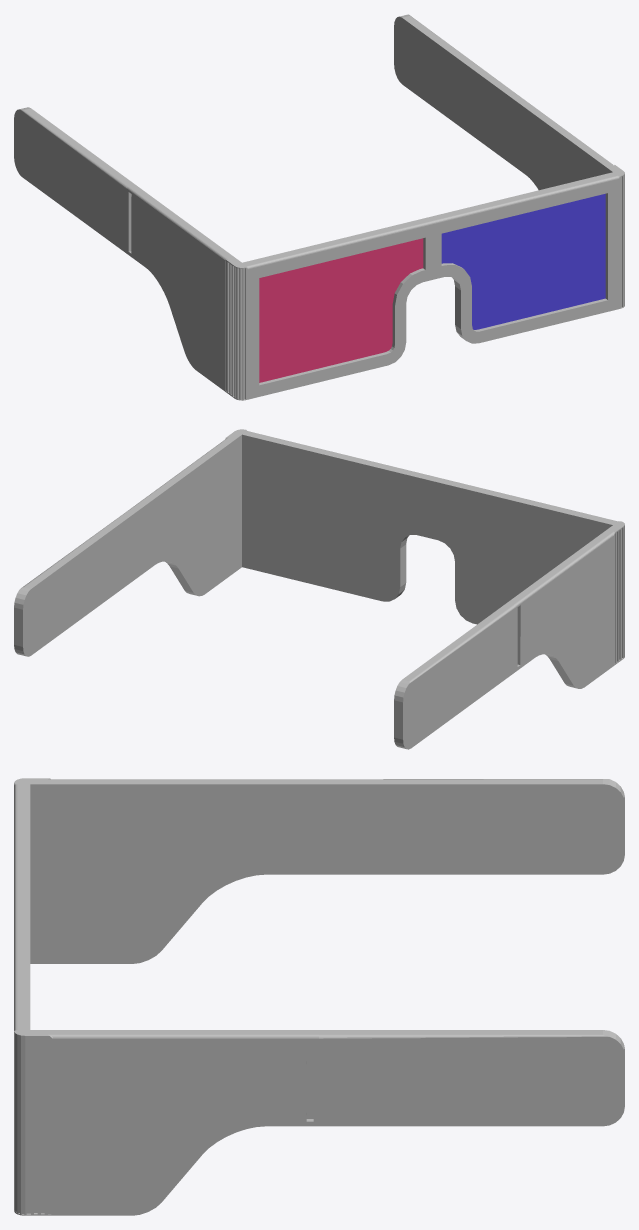
File: SpaceBrilleBrille.fbx
3 views of the same model, one above another, from view 1: azimuth 30°, elevation 25°; view 2: azimuth 150°, elevation 25°; view 3: azimuth 270°, elevation 25° (orthographic). The views are drawn at different scales.
Parts seen in each view (by area): view 1: Cube; view 2: Cube; view 3: Cube.
Part boxes in pixels (x1,y1,x2,y2): Cube: (14, 14, 624, 400); Cube: (14, 429, 624, 749); Cube: (14, 778, 624, 1215).
Size of the model in its own units: 29.93 by 9.74 by 29.99.
